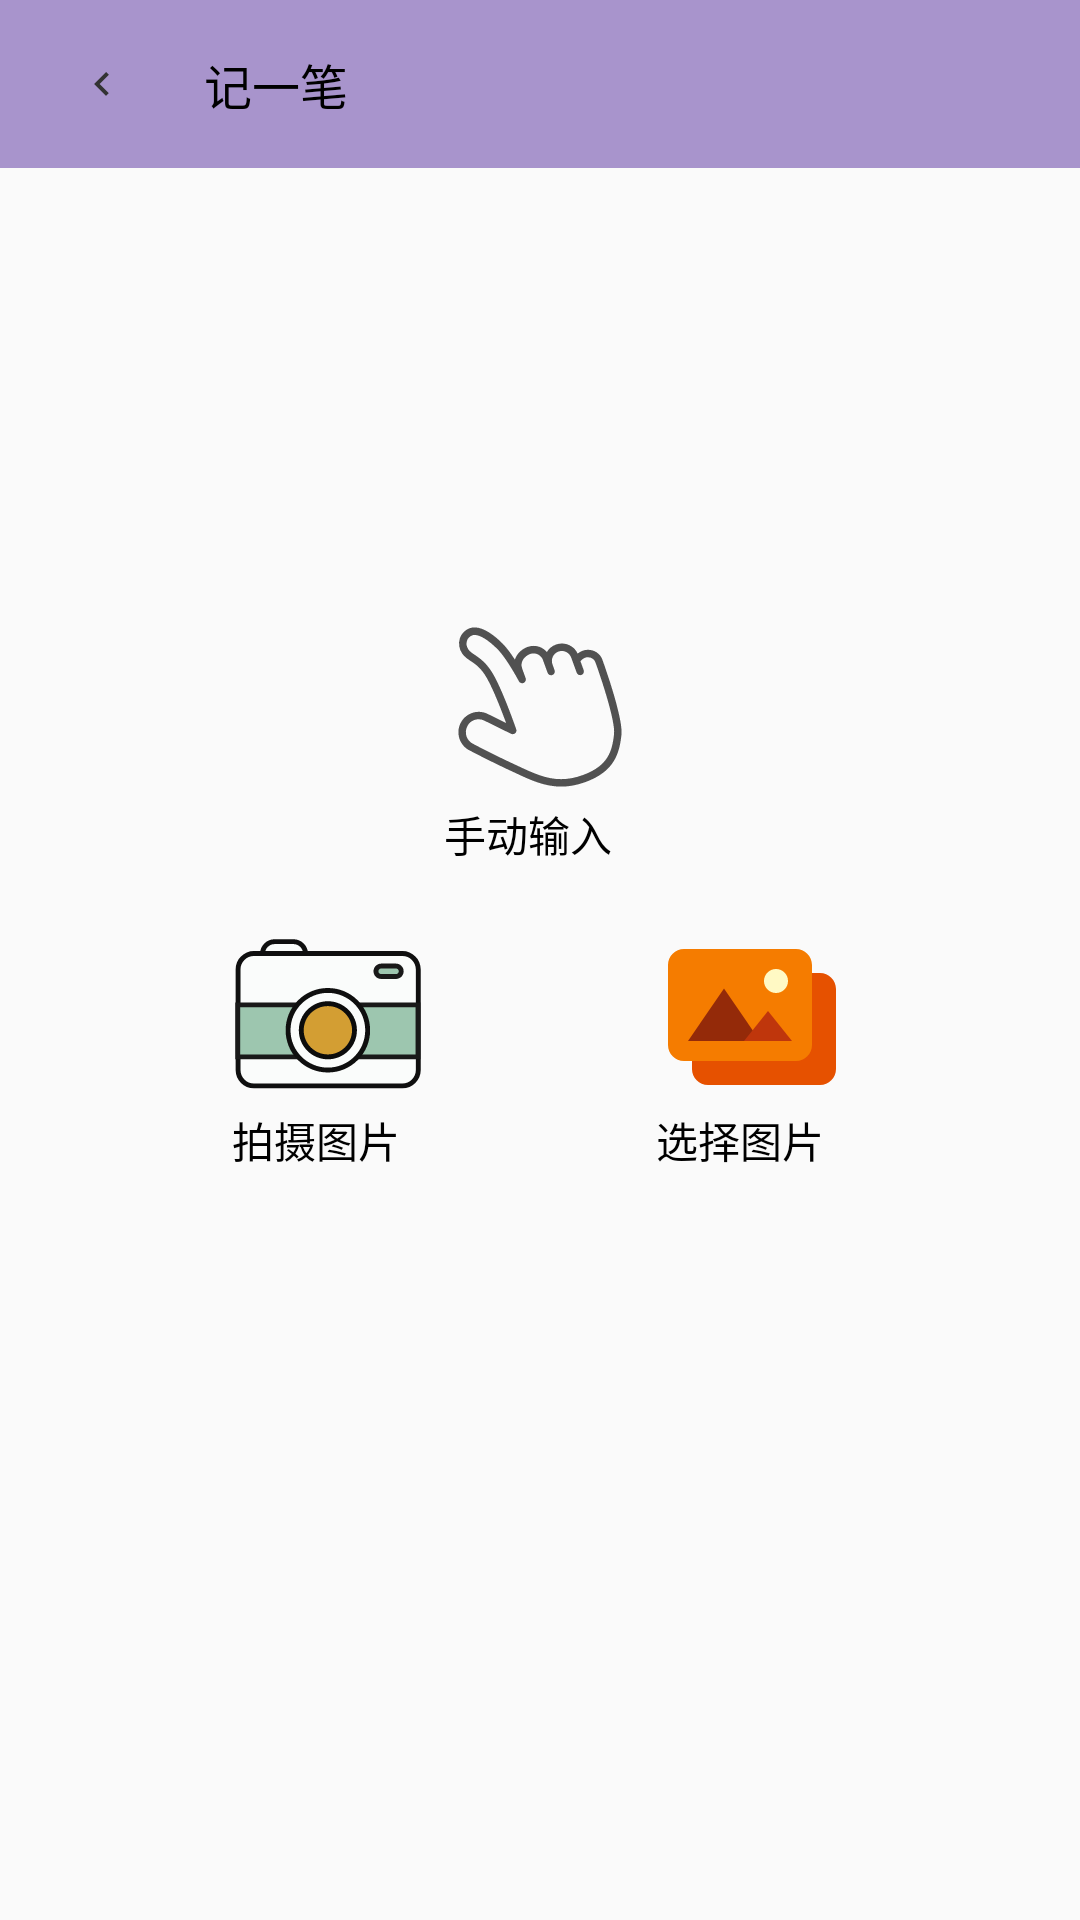

Icon bounding boxes for this 1080*1920 phone screenshot, format {"left": x1, "top": y1, "right": x2, "bottom": y2}:
返回: {"left": 94, "top": 72, "right": 109, "bottom": 96}
